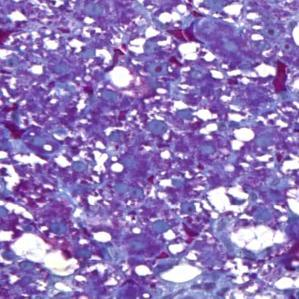ballooning: (226, 221, 287, 255)
